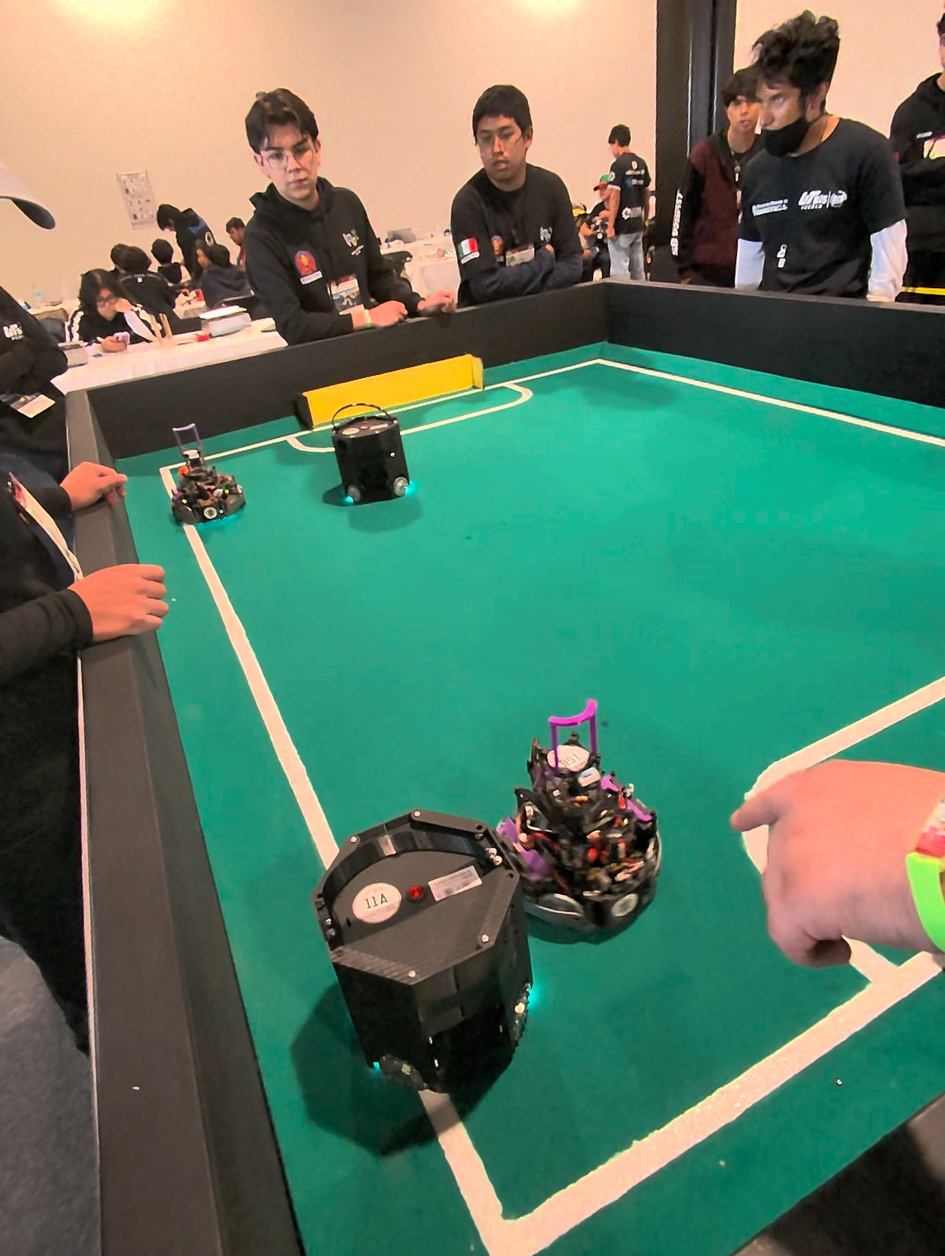Robot: (296, 788, 546, 1110), (515, 722, 670, 953), (326, 384, 428, 532), (162, 435, 250, 540)
